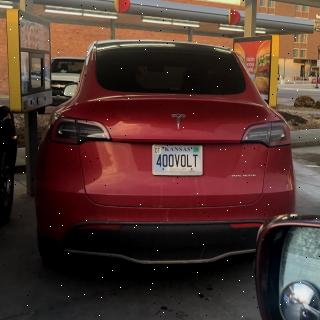license: (153, 145, 204, 177)
